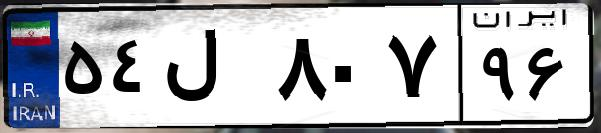0: (330, 28, 385, 110)
4: (110, 28, 158, 98)
5: (57, 26, 110, 100)
6: (525, 38, 570, 115)
7: (385, 28, 445, 110)
8: (270, 28, 330, 110)
9: (475, 38, 525, 113)
ل: (158, 20, 270, 120)
